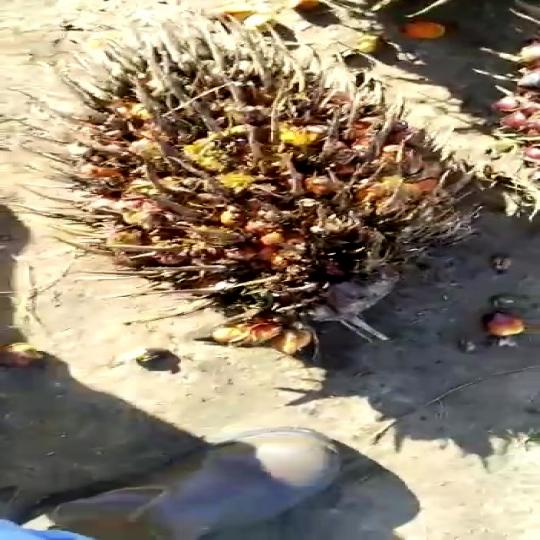terlalu masak: (22, 16, 507, 343)
